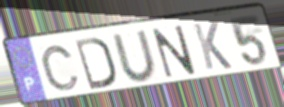5: (227, 13, 270, 68)
C: (39, 44, 82, 93)
D: (72, 35, 118, 92)
K: (190, 20, 234, 72)
N: (150, 24, 198, 81)
U: (110, 28, 161, 83)
